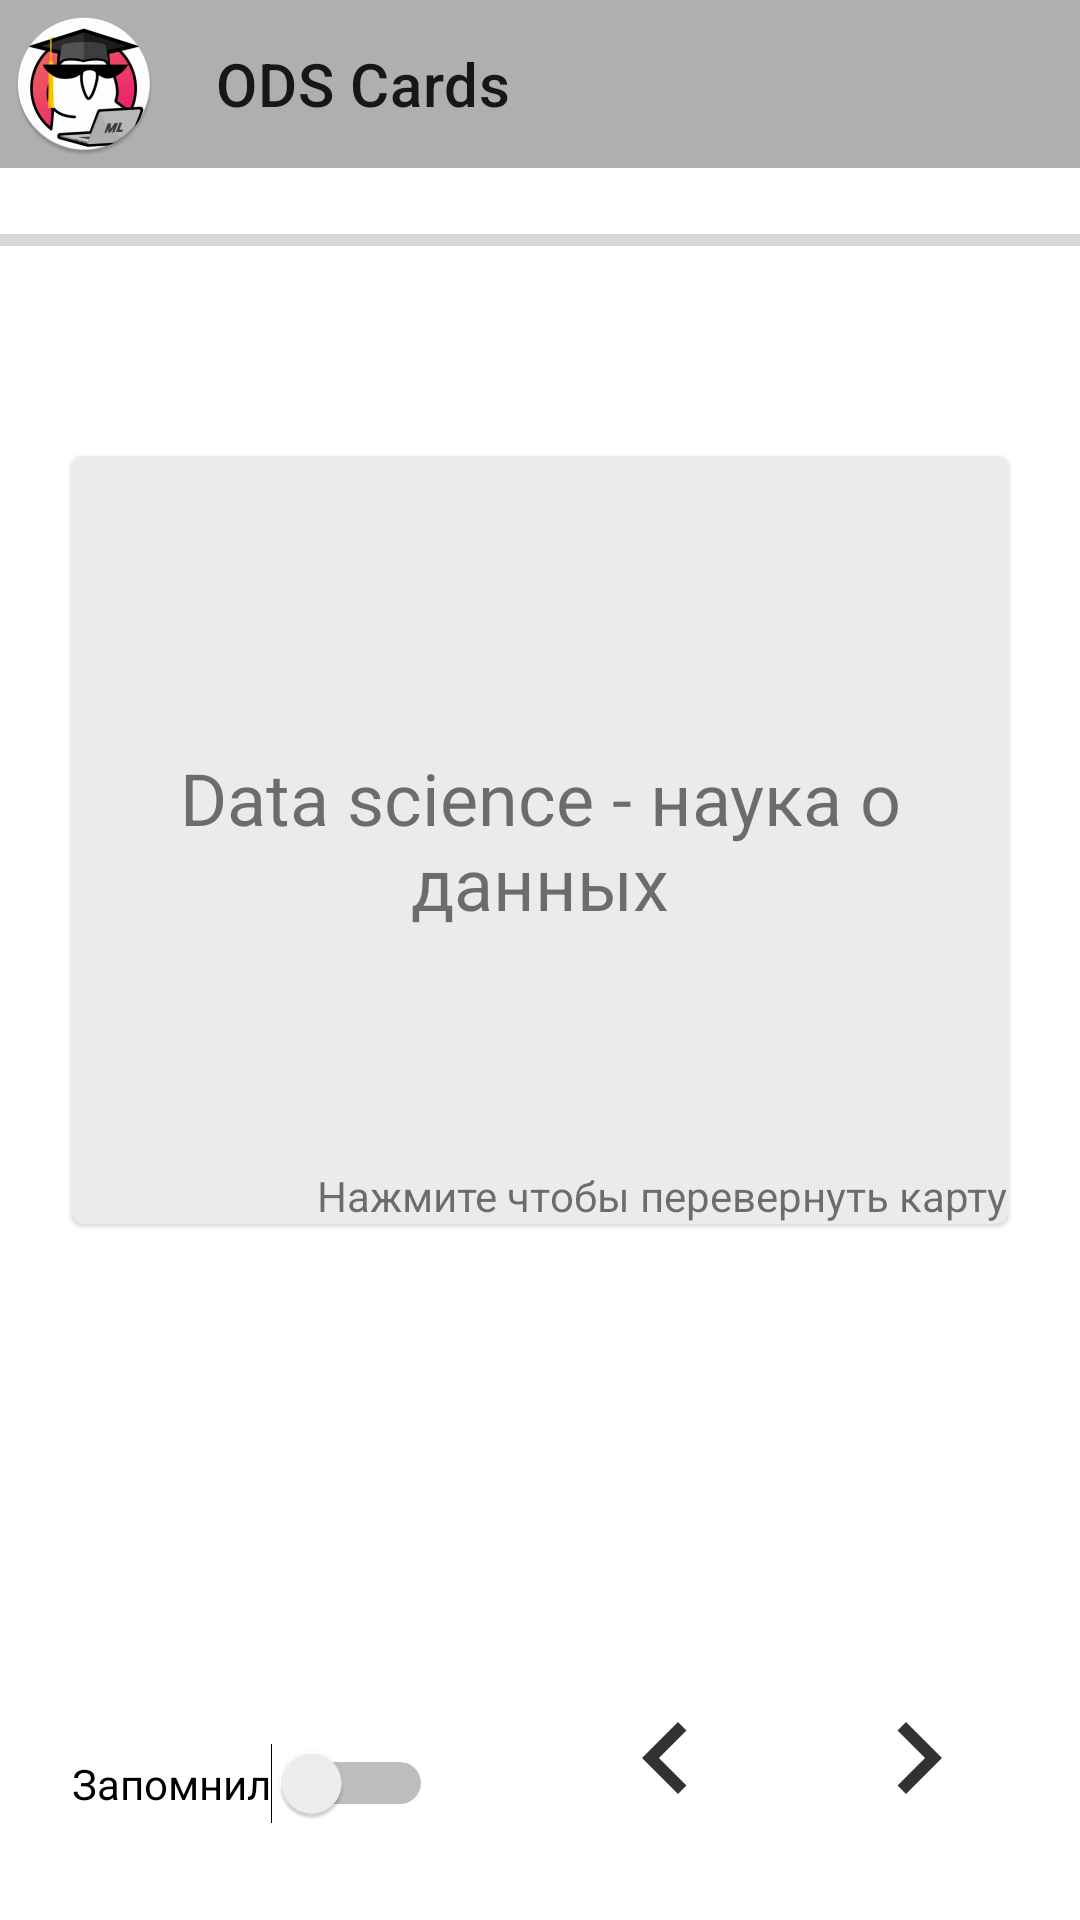

Screen size 1080 × 1920. Icon name, then its center in pixels as (x,y):
back: (664,1758)
forward: (919,1758)
